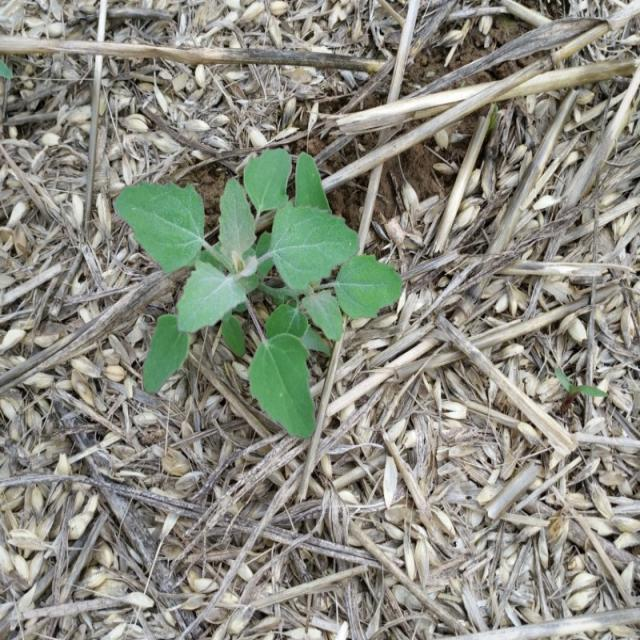goosefoots: (107, 151, 430, 432)
